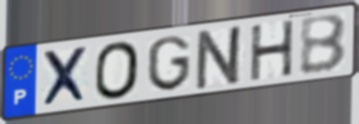B: (298, 12, 349, 77)
G: (145, 33, 193, 93)
H: (248, 18, 297, 84)
N: (192, 22, 247, 92)
O: (93, 39, 142, 101)
X: (40, 44, 91, 110)
